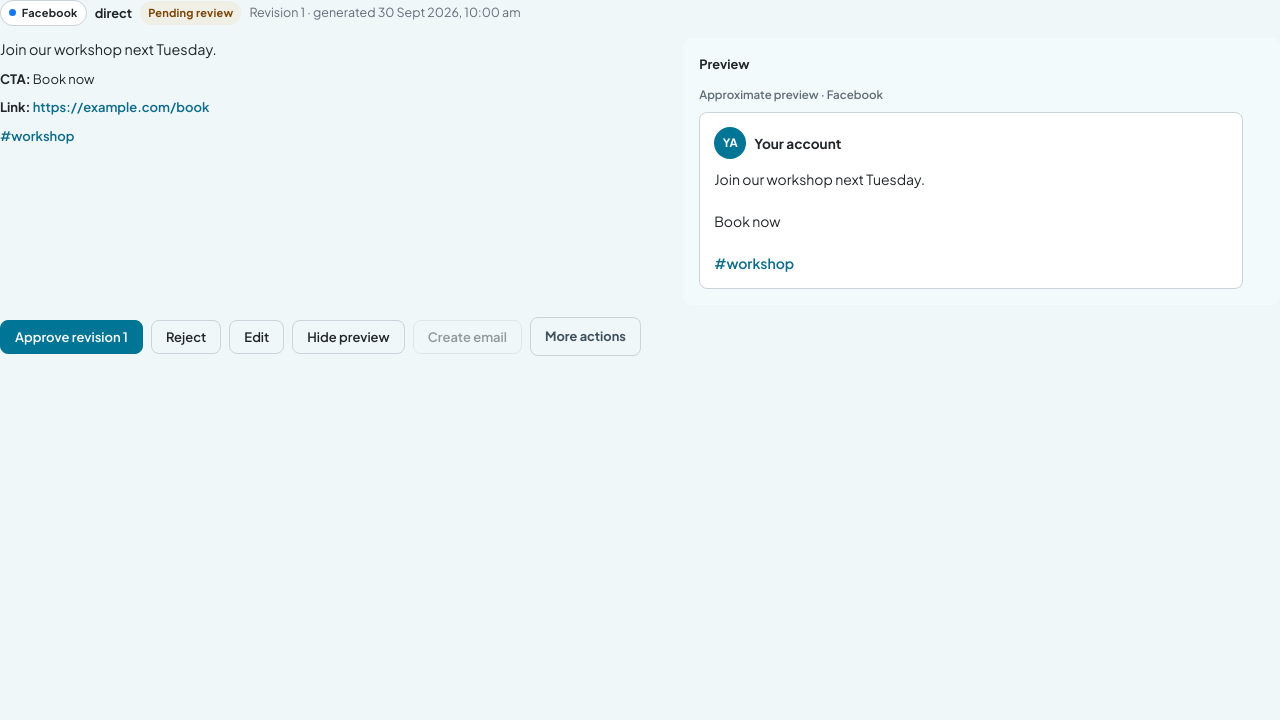
VariantCard › requires a reason to reject
Click the button "Reject" at (186,337), box [151,320,221,354]
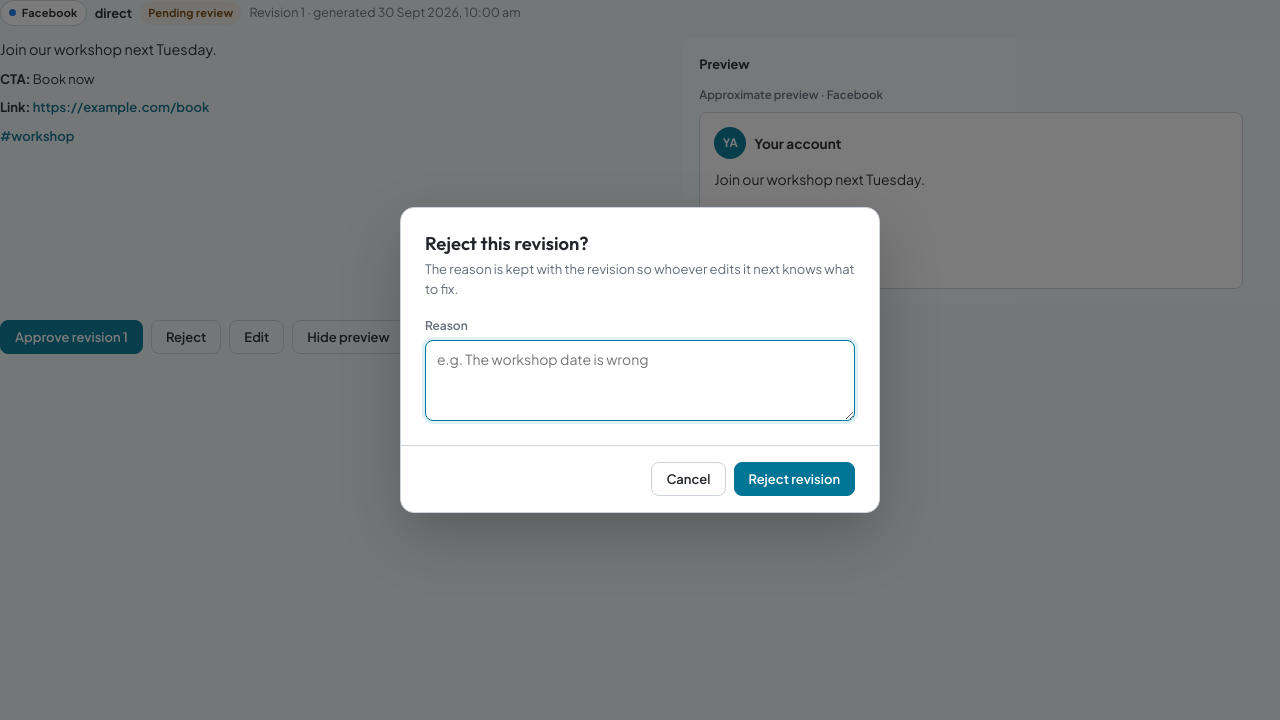
Click the button "Reject revision" at (794,479), box [734,462,855,496]
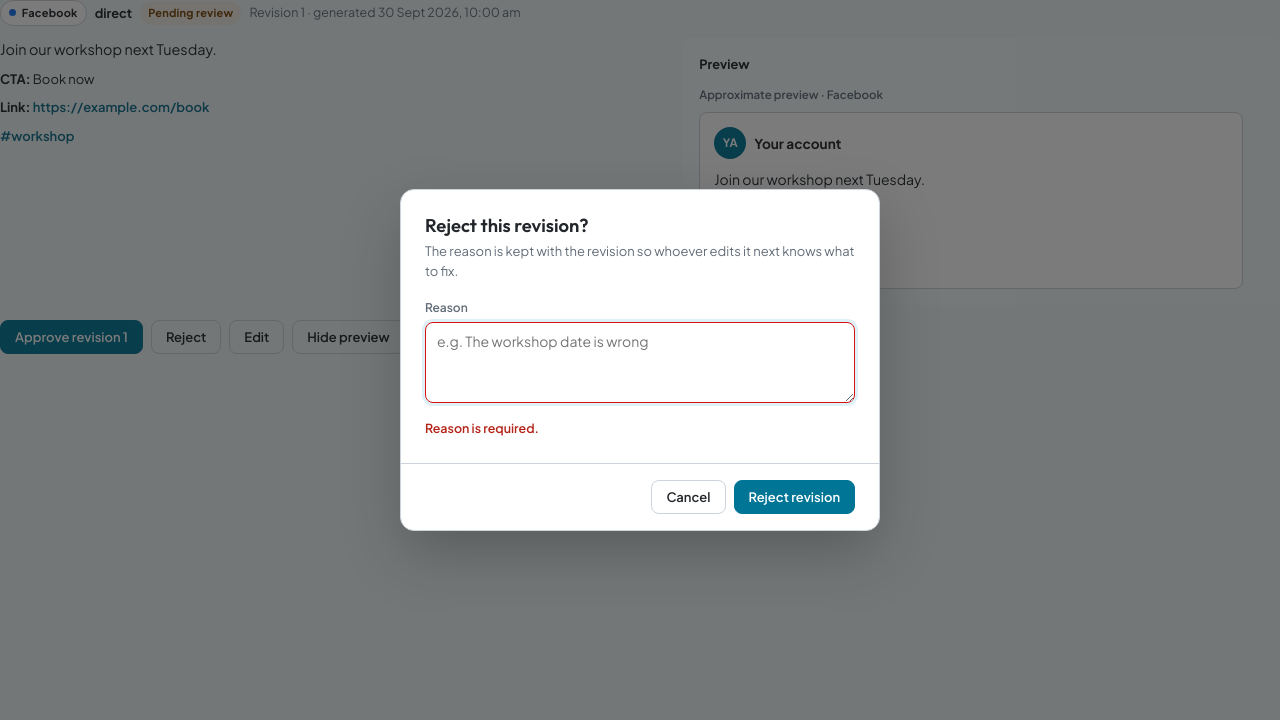
Expected: the text "Reason is required." is shown, [425,420,539,436]
Type "Wrong date" into the text box labelled "Reason" at (640,363), box [425,322,855,403]
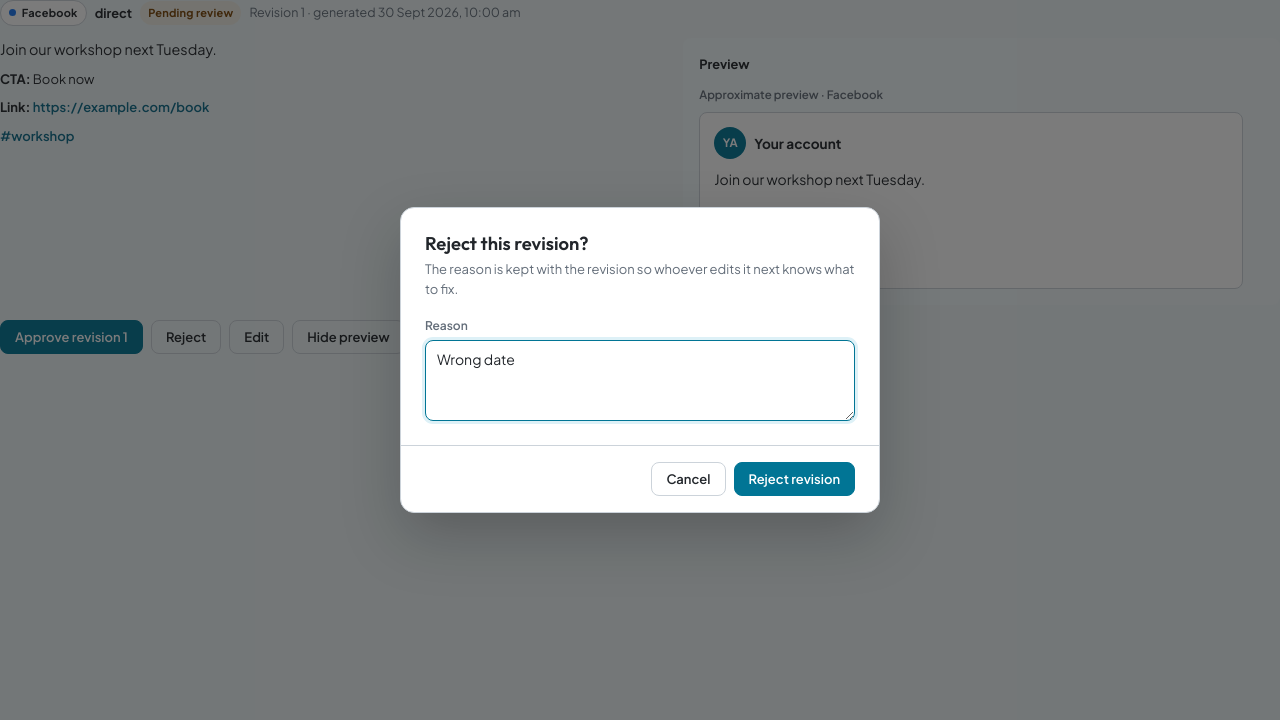
Click the button "Reject revision" at (794,479), box [734,462,855,496]
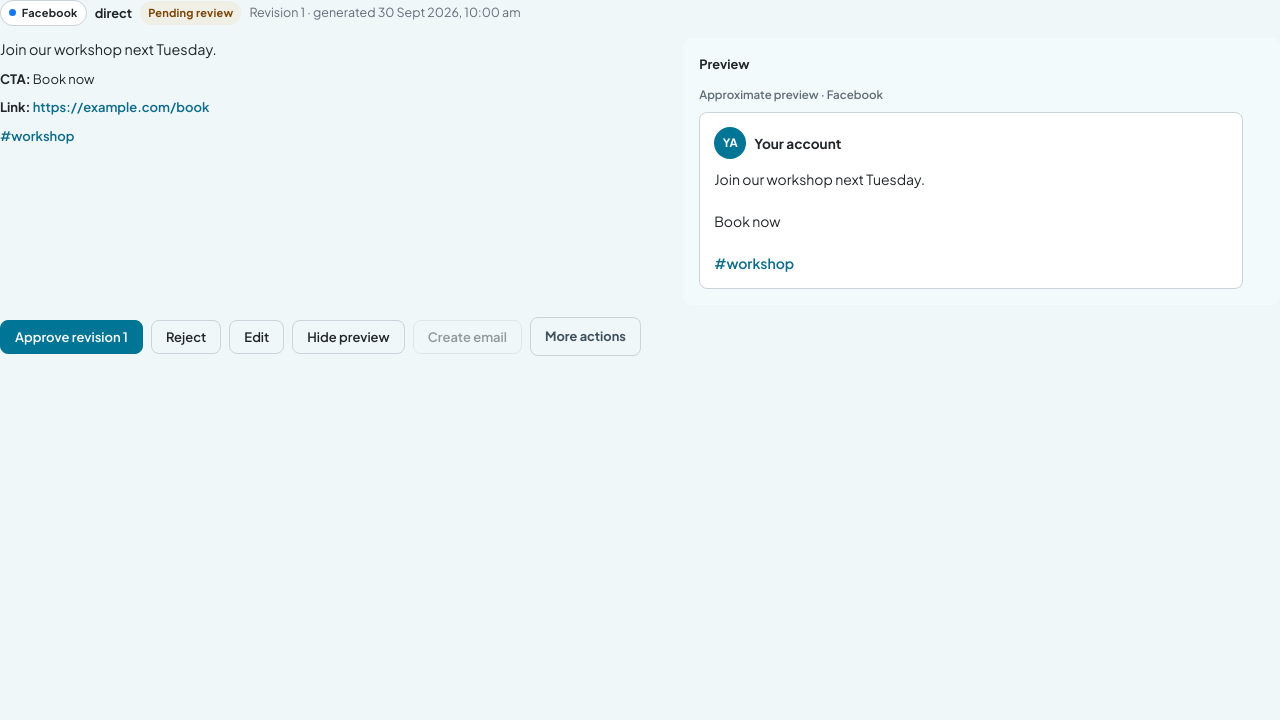
Expected: the dialog is gone
